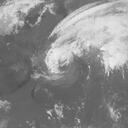cyclone: (44, 44, 84, 84)
